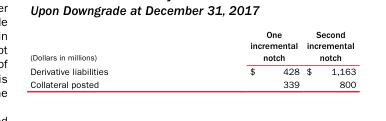table: (29, 28, 355, 89)
table column: (29, 28, 178, 89), (178, 28, 302, 89), (302, 28, 355, 89)
table column header: (29, 28, 355, 63)
table row: (29, 28, 355, 63), (29, 63, 355, 77), (29, 77, 355, 89)
